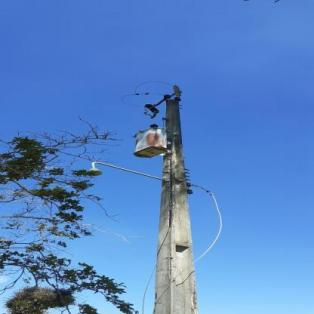Poste: (147, 97, 203, 314)
